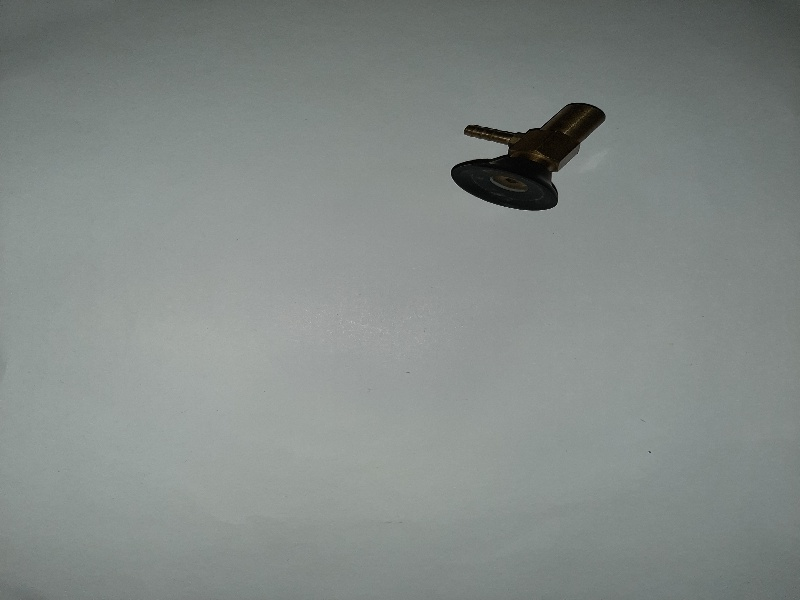Joint Hold: (452, 100, 614, 213)
